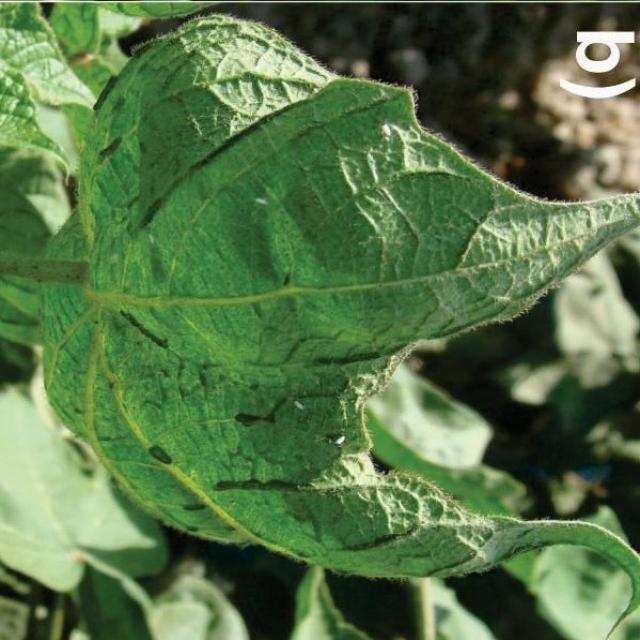Leaf Curl Virus: (112, 68, 462, 640)
